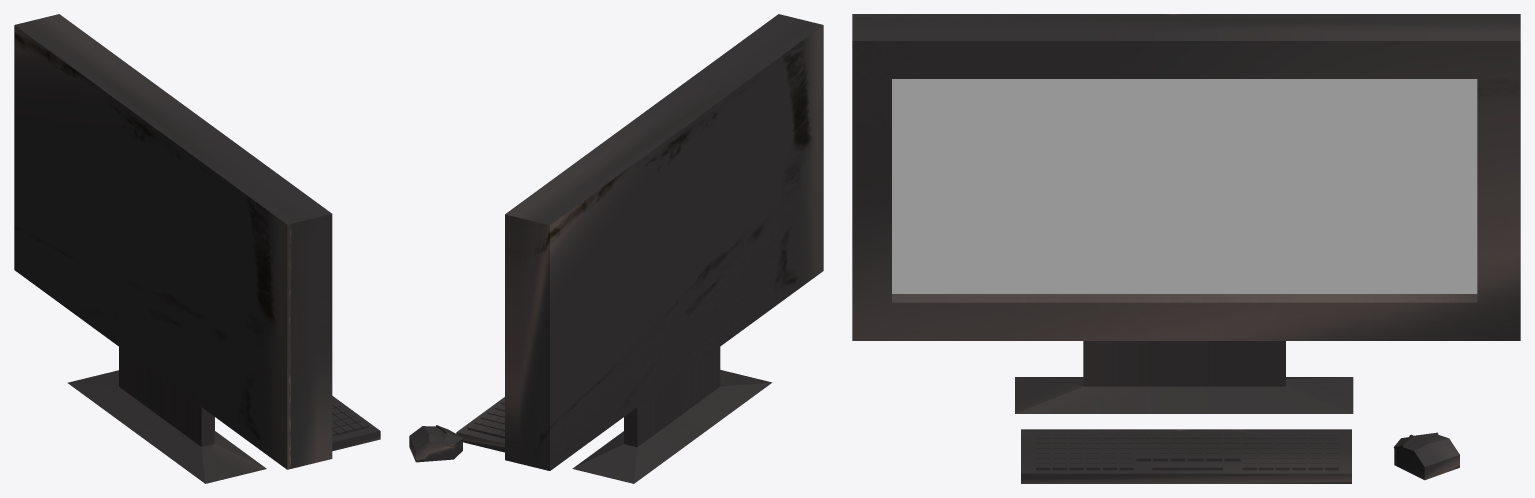
The model's file is computer.fbx.
The picture shows the model from 3 angles, left to right: view 1: azimuth 30°, elevation 25°; view 2: azimuth 150°, elevation 25°; view 3: azimuth 270°, elevation 25°; orthographic projection. The views are drawn at different scales.
Parts seen in each view (by area): view 1: Cube.012; view 2: Cube.012; view 3: Cube.012.
Boxes of the visible parts, left/top/right/bottom form: Cube.012: left=14, top=14, right=380, bottom=483; Cube.012: left=409, top=14, right=823, bottom=483; Cube.012: left=852, top=14, right=1520, bottom=483.
Size of the model in its own units: 167 by 249 by 404.
Materials: 2 (1 with a texture image).
